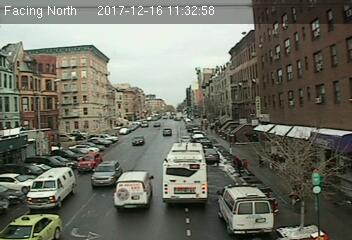bus: (162, 142, 210, 209)
car: (91, 161, 119, 186), (75, 153, 100, 171), (130, 135, 146, 145)
pedestrian: (233, 155, 243, 177)
police: (215, 181, 274, 230)
truck: (23, 164, 76, 210), (114, 172, 154, 209)
